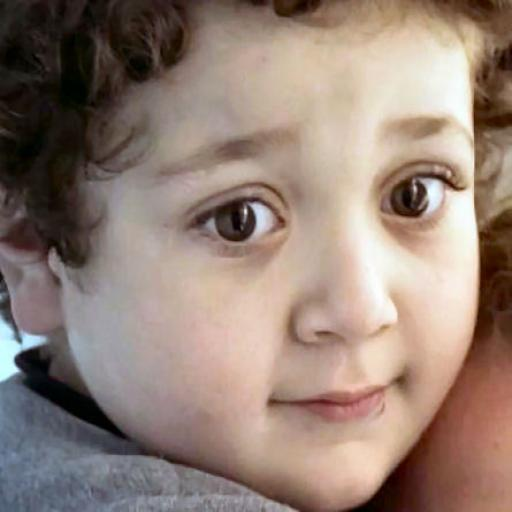Autism: (10, 9, 512, 508)
